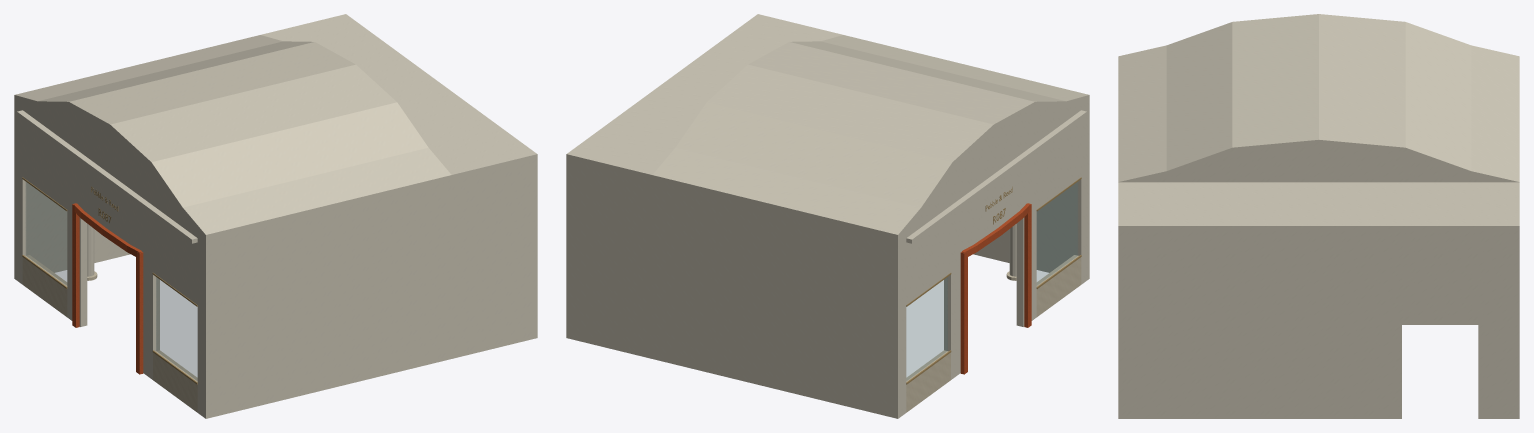
The model's file is SHOP_D09_S100_F106__shell.glb.
The picture shows the model from 3 angles, left to right: view 1: azimuth 30°, elevation 25°; view 2: azimuth 150°, elevation 25°; view 3: azimuth 270°, elevation 25°; orthographic projection. The views are drawn at different scales.
Visible parts, largest first — view 1: SHOP_D09_S100_F106__shell__ivory_enamel, SHOP_D09_S100_F106__shell__shop_glass, SHOP_D09_S100_F106__shell__warm_stone, SHOP_D09_S100_F106__shell__retail_terracotta_enamel, SHOP_D09_S100_F106__shell__champagne_metal; view 2: SHOP_D09_S100_F106__shell__ivory_enamel, SHOP_D09_S100_F106__shell__shop_glass, SHOP_D09_S100_F106__shell__warm_stone, SHOP_D09_S100_F106__shell__retail_terracotta_enamel, SHOP_D09_S100_F106__shell__champagne_metal; view 3: SHOP_D09_S100_F106__shell__ivory_enamel.
Part boxes in pixels (x1,y1,x2,y2): SHOP_D09_S100_F106__shell__ivory_enamel: (14, 14, 537, 418); SHOP_D09_S100_F106__shell__shop_glass: (26, 182, 197, 380); SHOP_D09_S100_F106__shell__warm_stone: (22, 255, 197, 412); SHOP_D09_S100_F106__shell__retail_terracotta_enamel: (72, 203, 143, 374); SHOP_D09_S100_F106__shell__champagne_metal: (22, 177, 197, 384); SHOP_D09_S100_F106__shell__ivory_enamel: (566, 14, 1089, 418); SHOP_D09_S100_F106__shell__shop_glass: (906, 182, 1077, 380); SHOP_D09_S100_F106__shell__warm_stone: (906, 255, 1081, 412); SHOP_D09_S100_F106__shell__retail_terracotta_enamel: (960, 203, 1031, 374); SHOP_D09_S100_F106__shell__champagne_metal: (906, 177, 1081, 384); SHOP_D09_S100_F106__shell__ivory_enamel: (1118, 14, 1519, 418).
Size of the model in its own units: 11.86 by 7.5 by 11.6.
6 materials, 4 textured.
